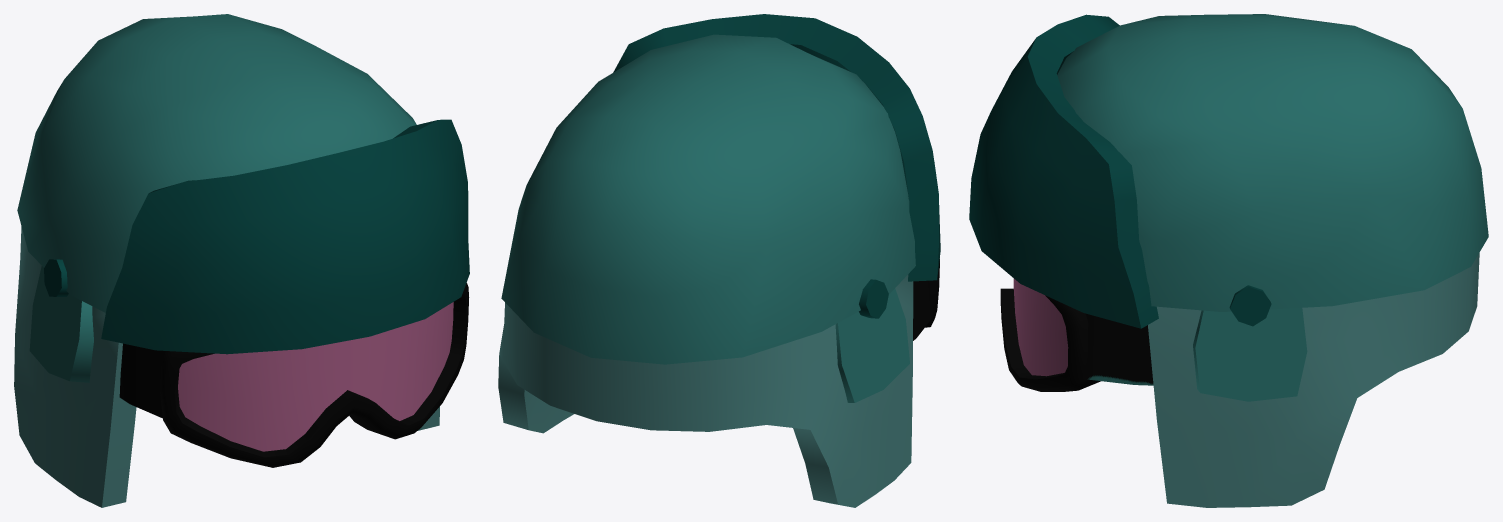
Rendered from 3滑雪帽.fbx.
3 renders of one model, left to right at view 1: azimuth 30°, elevation 25°; view 2: azimuth 150°, elevation 25°; view 3: azimuth 270°, elevation 25°, orthographic. The views are drawn at different scales.
Parts seen in each view (by area): view 1: 3滑雪帽; view 2: 3滑雪帽; view 3: 3滑雪帽.
Boxes of the visible parts, x1,y1,x2,y2 form: 3滑雪帽: [14, 14, 469, 507]; 3滑雪帽: [498, 14, 940, 507]; 3滑雪帽: [969, 14, 1488, 507].
Size of the model in its own units: 0.414 by 0.4226 by 0.5067.
